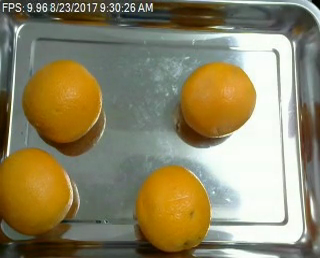Orange: (20, 59, 103, 143), (136, 163, 212, 252), (2, 147, 76, 235), (178, 60, 257, 137)
